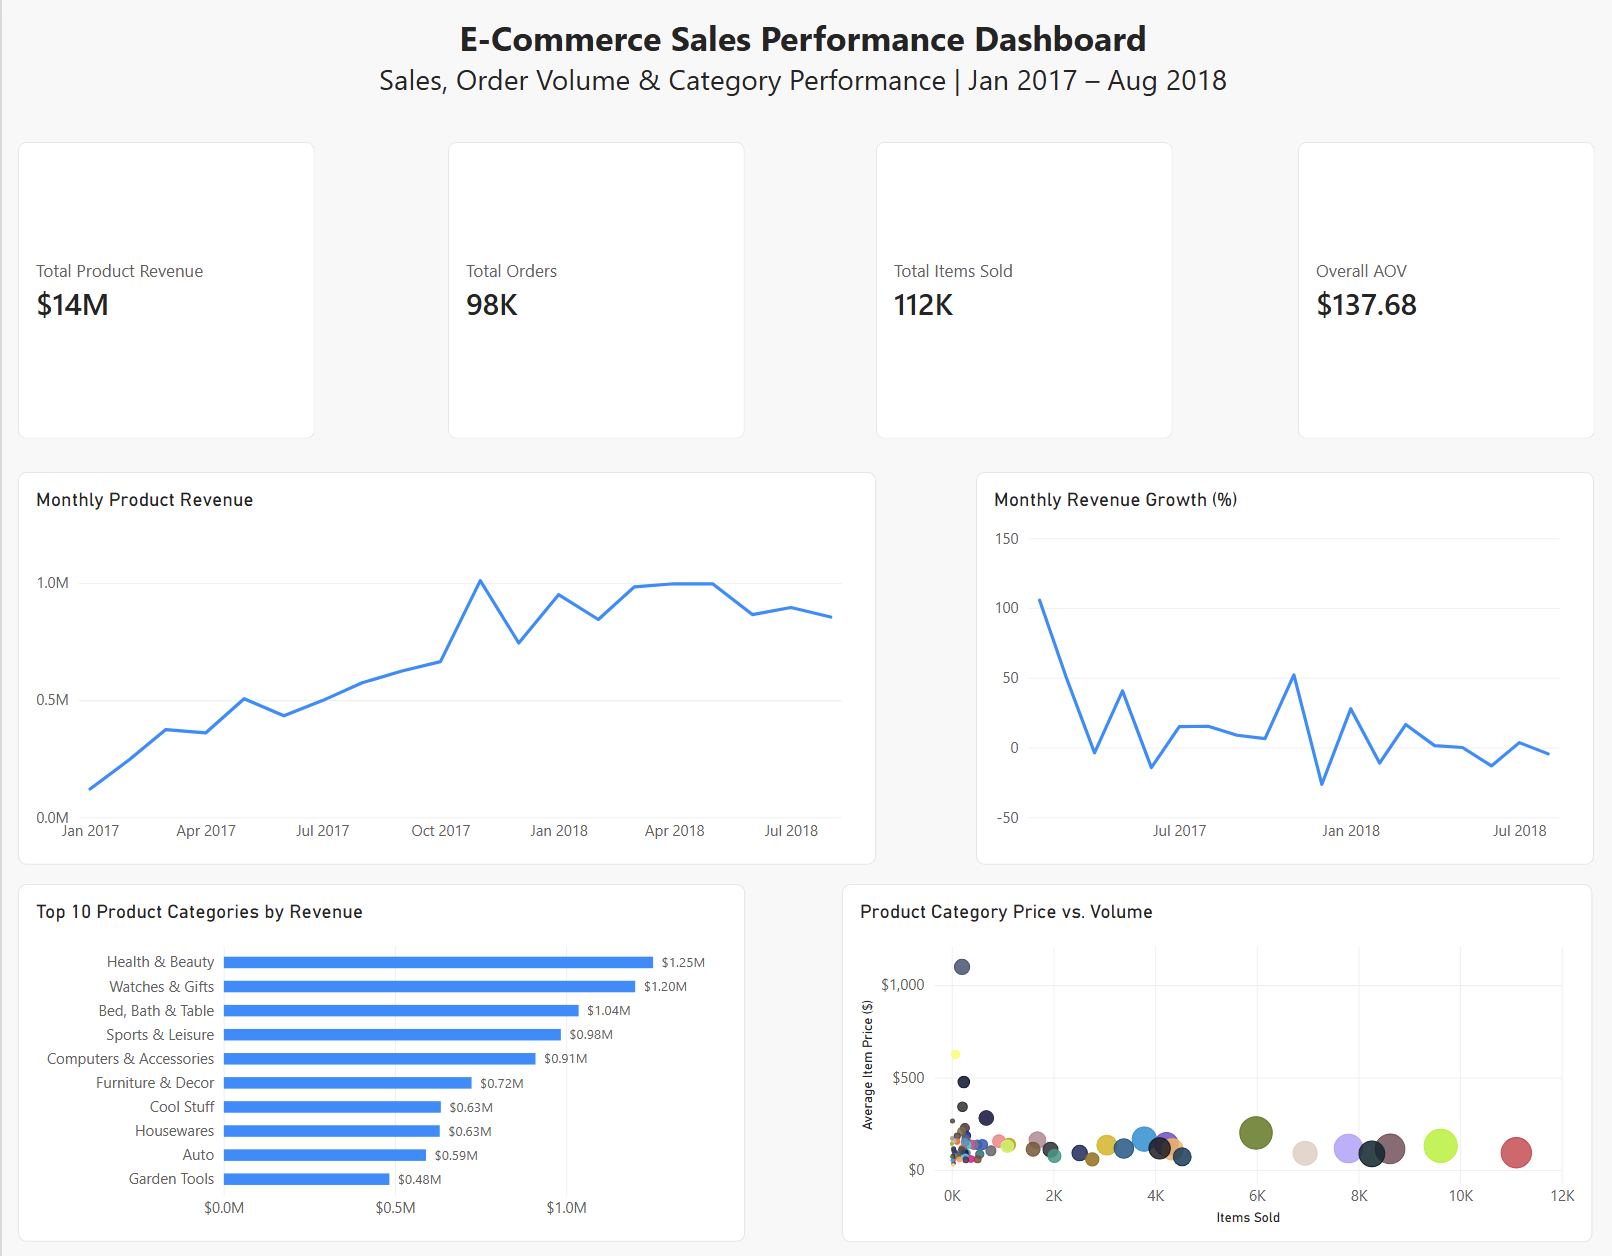

This screenshot's page, from the dashboard's own definition file:
{"tool":"powerbi","page":{"name":"Executive Sales Overview","canvas":[1920,1200],"ordinal":0},"visuals":[{"type":"cardVisual","fields":{"Data":["monthly_performance.Total Product Revenue"]},"box":[16,141,280,280],"z":0},{"type":"cardVisual","fields":{"Data":["monthly_performance.Total Orders"]},"box":[420.1,141,280,280],"z":1000},{"type":"cardVisual","fields":{"Data":["monthly_performance.Total Items Sold"]},"box":[824.2,141,280,280],"z":2000},{"type":"cardVisual","fields":{"Data":["monthly_performance.Overall AOV"]},"box":[1222,142,280,280],"z":3000},{"type":"lineChart","title":"Monthly Product Revenue","fields":{"Category":["monthly_performance.order_month"],"Y":["Sum(monthly_performance.revenue)"]},"box":[14.7,452.1,809.7,370.7],"z":4000},{"type":"lineChart","title":"Monthly Revenue Growth (%)","fields":{"Category":["monthly_performance.order_month"],"Y":["Sum(monthly_performance.revenue_growth_pct)"]},"box":[919.7,452.1,582.8,370.7],"z":5000},{"type":"clusteredBarChart","title":"Top 10 Product Categories by Revenue","fields":{"Category":["category_performance.Category Display"],"Y":["Sum(category_performance.revenue)"]},"box":[15.2,841.3,686.1,337.5],"z":6000},{"type":"scatterChart","title":"Product Category Price vs. Volume","fields":{"Series":["category_performance.Category Display"],"Size":["Sum(category_performance.revenue)"],"X":["Sum(category_performance.items_sold)"],"Y":["Avg(category_performance.average_item_price)"]},"box":[792,842,708,338],"z":7000},{"type":"textbox","box":[156,20,1198,122],"z":8000}]}

Visuals, with their boxes on the page's 1920x1200 design canvas (x1, y1, x2, y2). These are canvas units, not pixel positions in the 1612x1256 screenshot, which may show the page scaled, cropped or inside an application window:
cardVisual - monthly_performance.Total Product Revenue: [left=16, top=141, right=296, bottom=421]
cardVisual - monthly_performance.Total Orders: [left=420, top=141, right=700, bottom=421]
cardVisual - monthly_performance.Total Items Sold: [left=824, top=141, right=1104, bottom=421]
cardVisual - monthly_performance.Overall AOV: [left=1222, top=142, right=1502, bottom=422]
"Monthly Product Revenue" lineChart: [left=15, top=452, right=824, bottom=823]
"Monthly Revenue Growth (%)" lineChart: [left=920, top=452, right=1502, bottom=823]
"Top 10 Product Categories by Revenue" clusteredBarChart: [left=15, top=841, right=701, bottom=1179]
"Product Category Price vs. Volume" scatterChart: [left=792, top=842, right=1500, bottom=1180]
textbox: [left=156, top=20, right=1354, bottom=142]
